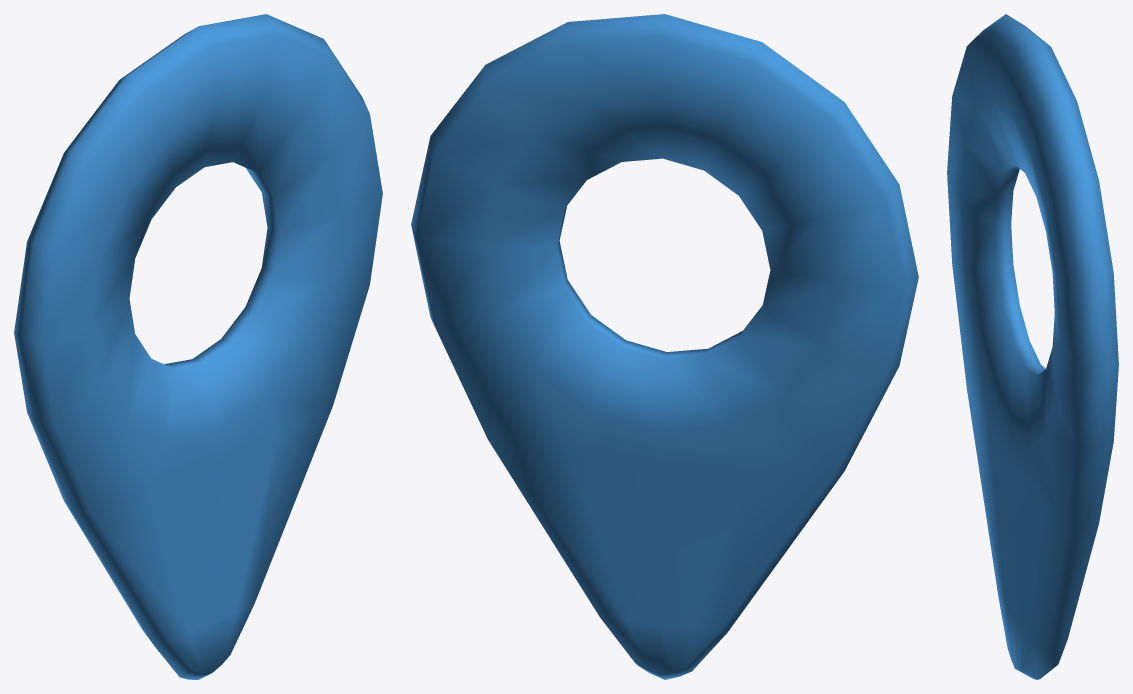
Rendered from poi.glb.
3 views of the same model, side by side, from view 1: azimuth 30°, elevation 25°; view 2: azimuth 150°, elevation 25°; view 3: azimuth 270°, elevation 25° (orthographic). The views are drawn at different scales.
Visible parts, largest first — view 1: poi; view 2: poi; view 3: poi.
Part boxes in pixels (left/top/right/bottom): poi: left=14, top=14, right=382, bottom=679; poi: left=411, top=14, right=918, bottom=679; poi: left=947, top=14, right=1118, bottom=679.
Size of the model in its own units: 0.3629 by 0.5313 by 0.1287.
